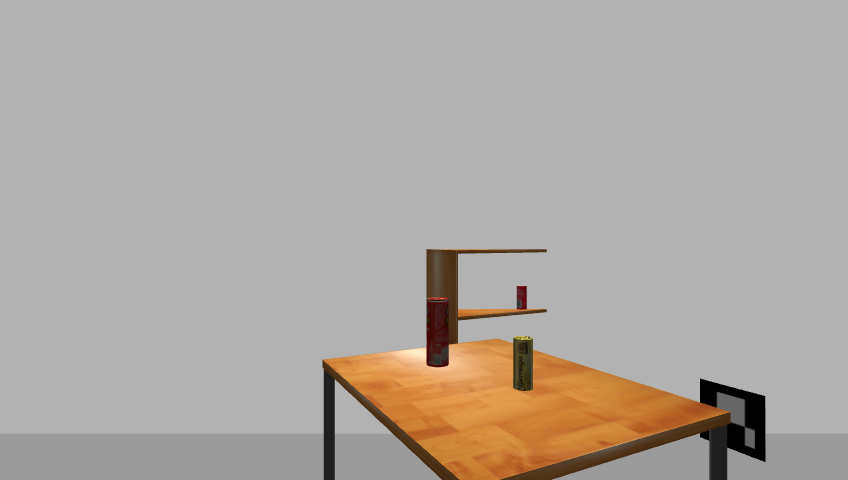aruco marker: (694, 377, 771, 463)
biscuits pack: (511, 336, 534, 393)
bookshelf: (423, 242, 552, 424)
coke can: (514, 285, 529, 312)
dinner table: (314, 340, 737, 479)
pringles can: (424, 297, 451, 369)
